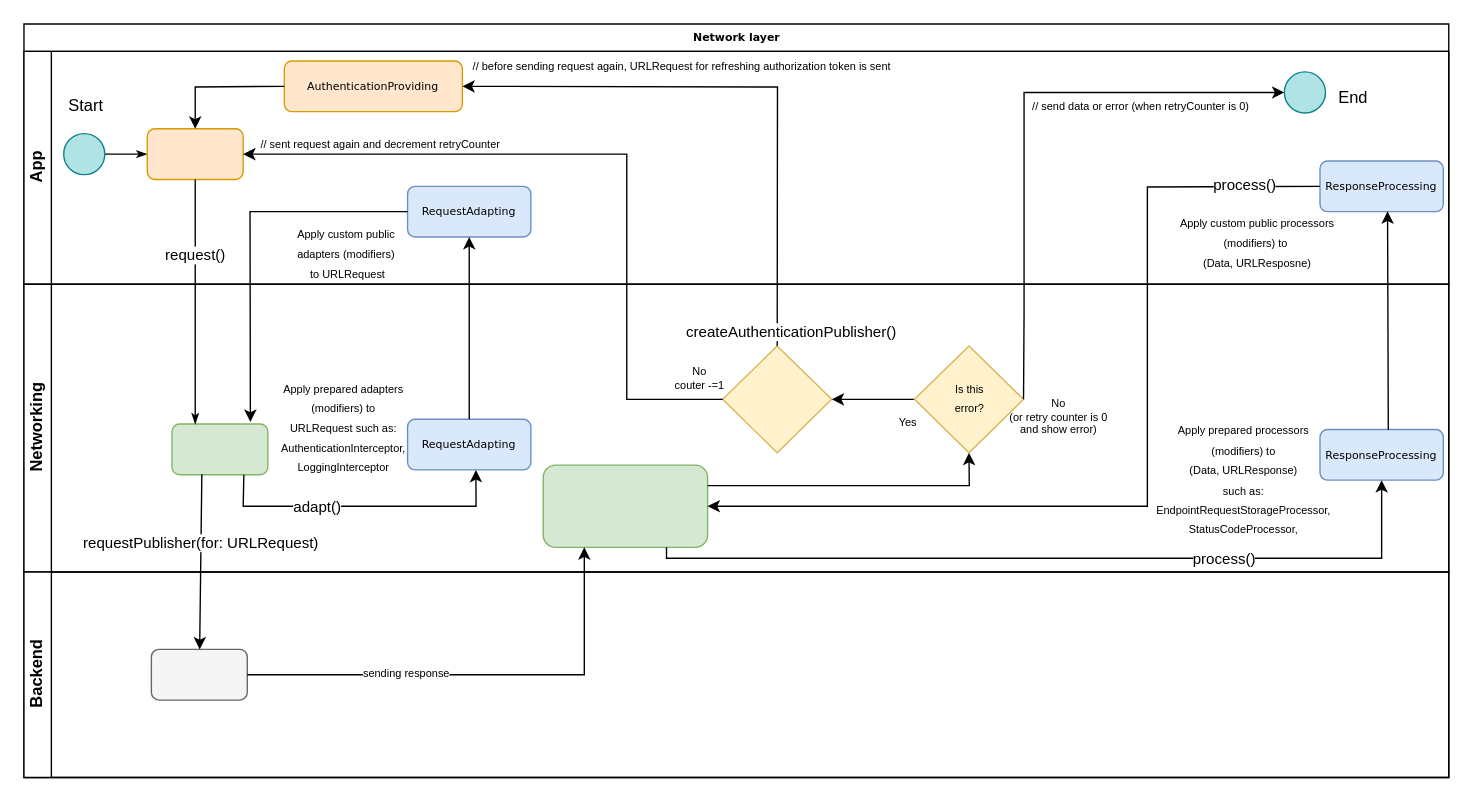
Image size: 1473x801. Some labels were removed from this diagram. The shapes that lost their labels are listed below. From the top down, each one's box as (x1, y1, x2, y2) in pixels, then its label:
(146, 127, 243, 179): APIManaging
(721, 345, 832, 453): Is this error 401 (unauthorized)?
(171, 423, 268, 475): URLRequest
(542, 464, 708, 547): (data: Data, response: URLResponse)
(150, 648, 247, 700): BE and its magic
